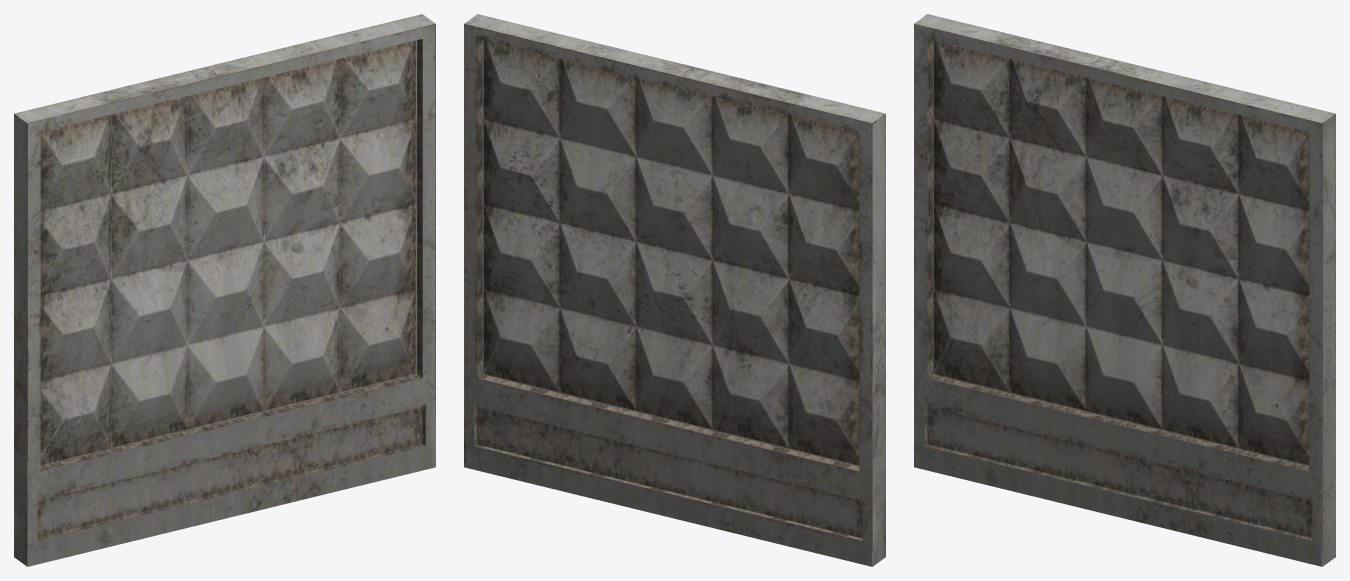
Rendered from concrete_fence.glb.
The picture shows the model from 3 angles, left to right: view 1: azimuth 30°, elevation 25°; view 2: azimuth 150°, elevation 25°; view 3: azimuth 330°, elevation 25°; orthographic projection.
Parts seen in each view (by area): view 1: Object_2; view 2: Object_2; view 3: Object_2.
Boxes of the visible parts, x1,y1,x2,y2 form: Object_2: (14,14,435,566); Object_2: (464,14,885,566); Object_2: (914,14,1335,566).
Size of the model in its own units: 2.41 by 2.5 by 0.1376.
1 material, 1 textured.
